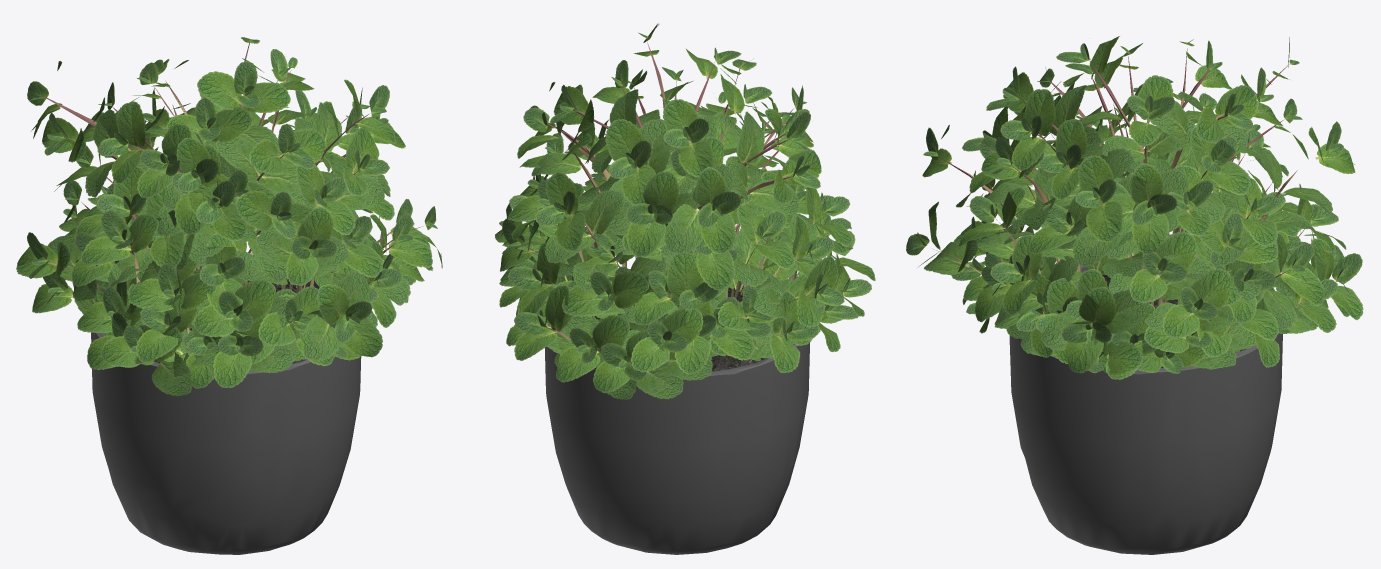
The model's file is indoor_planter.glb.
The picture shows the model from 3 angles, left to right: view 1: azimuth 30°, elevation 25°; view 2: azimuth 150°, elevation 25°; view 3: azimuth 270°, elevation 25°; orthographic projection. The views are drawn at different scales.
Visible parts, largest first — view 1: 3DGeom~19 [32021017]_2, 3DGeom~21 [32021023]_4, 3DGeom~20 [32021020]_3, 3DGeom~18 [32021032]_7, 3DGeom~17 [32021029]_6; view 2: 3DGeom~19 [32021017]_2, 3DGeom~21 [32021023]_4, 3DGeom~18 [32021032]_7, 3DGeom~20 [32021020]_3, 3DGeom~17 [32021029]_6, 3DGeom~16 [32021026]_5; view 3: 3DGeom~19 [32021017]_2, 3DGeom~21 [32021023]_4, 3DGeom~18 [32021032]_7, 3DGeom~20 [32021020]_3, 3DGeom~17 [32021029]_6.
Boxes of the visible parts, bbox=[...] form: 3DGeom~19 [32021017]_2: bbox=[16, 58, 442, 388]; 3DGeom~21 [32021023]_4: bbox=[91, 266, 361, 554]; 3DGeom~20 [32021020]_3: bbox=[27, 37, 437, 364]; 3DGeom~18 [32021032]_7: bbox=[48, 76, 432, 396]; 3DGeom~17 [32021029]_6: bbox=[45, 41, 423, 362]; 3DGeom~19 [32021017]_2: bbox=[495, 49, 875, 392]; 3DGeom~21 [32021023]_4: bbox=[544, 269, 809, 554]; 3DGeom~18 [32021032]_7: bbox=[502, 80, 842, 399]; 3DGeom~20 [32021020]_3: bbox=[499, 23, 871, 380]; 3DGeom~17 [32021029]_6: bbox=[524, 42, 835, 362]; 3DGeom~16 [32021026]_5: bbox=[592, 286, 766, 371]; 3DGeom~19 [32021017]_2: bbox=[919, 36, 1363, 379]; 3DGeom~21 [32021023]_4: bbox=[1009, 266, 1282, 554]; 3DGeom~18 [32021032]_7: bbox=[924, 78, 1332, 369]; 3DGeom~20 [32021020]_3: bbox=[906, 37, 1362, 373]; 3DGeom~17 [32021029]_6: bbox=[933, 48, 1305, 328].
Bounding box in the file's own units: 0.3702 × 0.4494 × 0.3887.
6 materials, 5 textured.
